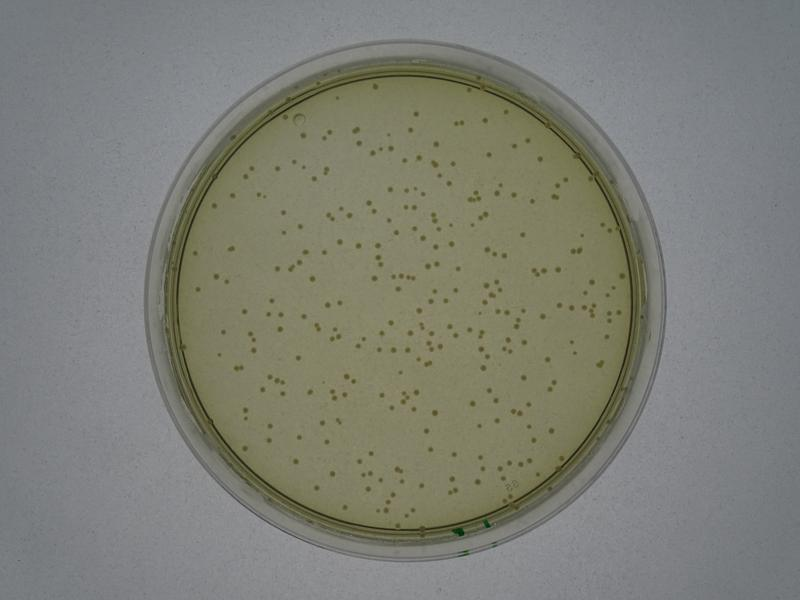colony: (516, 230, 530, 242), (466, 397, 478, 411), (238, 442, 251, 454), (428, 406, 440, 418), (238, 305, 250, 317), (484, 151, 496, 163), (368, 274, 380, 285), (321, 436, 332, 448), (223, 244, 237, 253), (306, 274, 317, 285), (298, 131, 309, 142), (411, 109, 422, 120), (480, 114, 490, 125), (306, 385, 315, 397), (509, 189, 518, 201), (385, 184, 395, 194), (279, 208, 290, 217), (336, 298, 345, 308), (535, 154, 545, 163), (293, 354, 303, 363), (425, 446, 435, 455), (537, 313, 548, 321), (354, 241, 362, 252), (272, 164, 280, 175), (448, 239, 455, 249), (327, 469, 336, 476), (518, 372, 527, 379)
